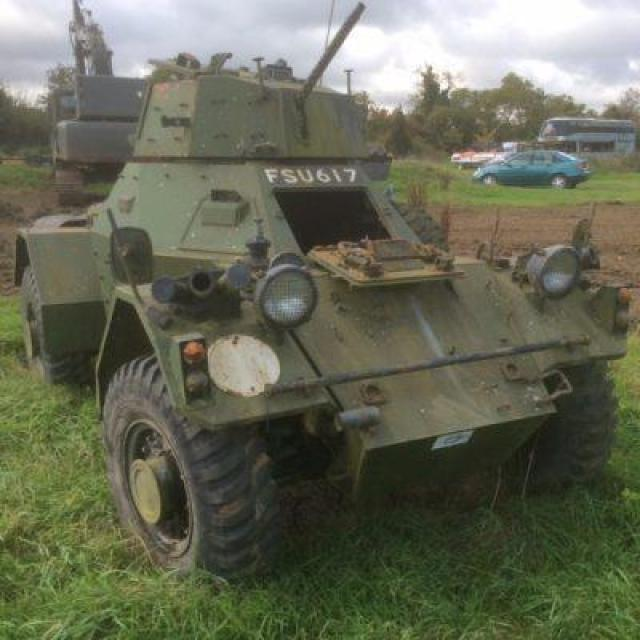Tanks: (11, 22, 574, 582), (51, 59, 122, 210)
